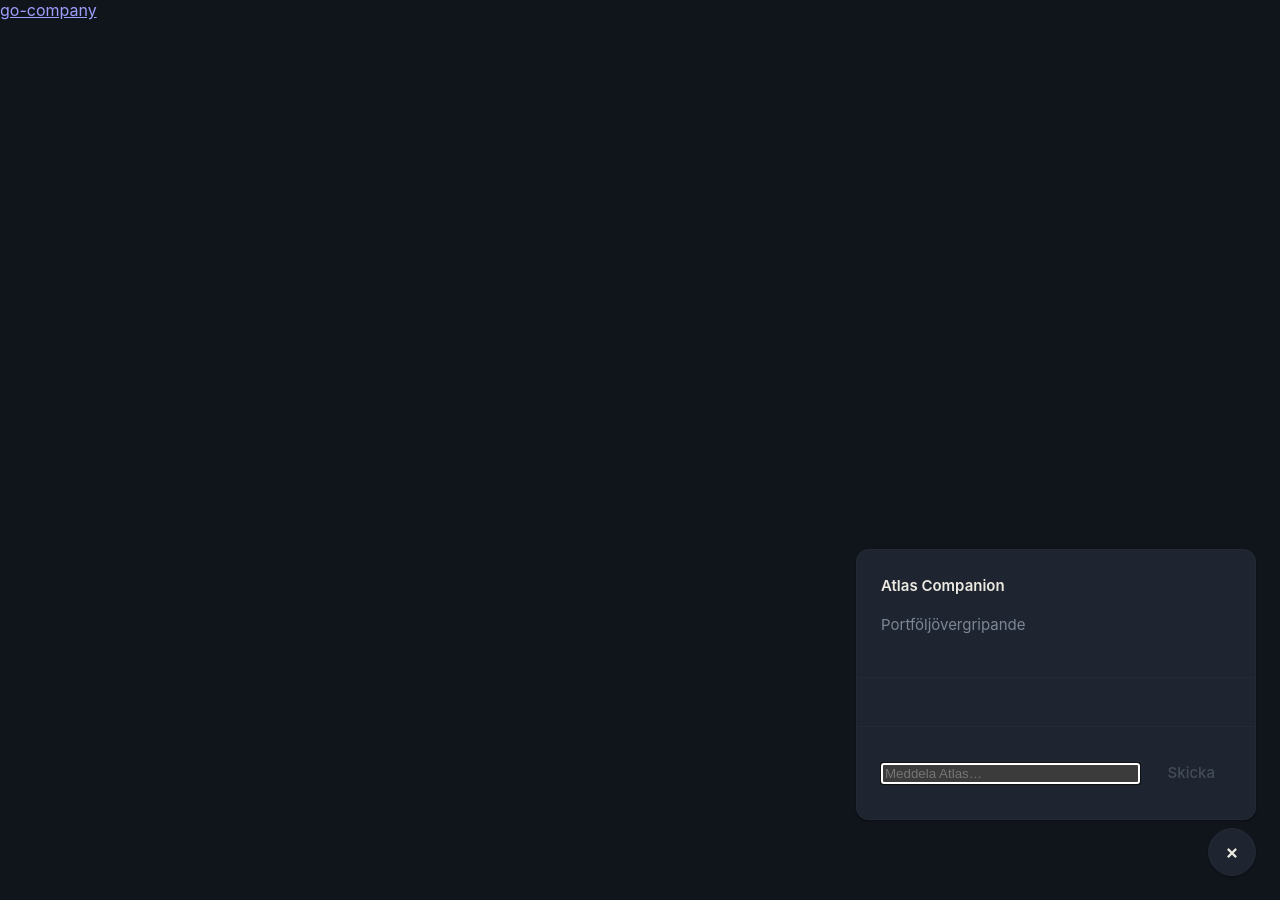
Test: CompanionPanel -- Sprint 3 coverage completion › announces exactly one context change (ticker resolved to its Case) when navigating from a bare workspace into a Company page after a message has been sent
The width and height of the screenshot is (1280, 900).
Check: the text "Portföljövergripande" is shown, box [881,615,1026,634]
Step 1. Type "Hello" into the field with placeholder "Meddela Atlas…" → (1010, 773), box [881,762,1140,784]
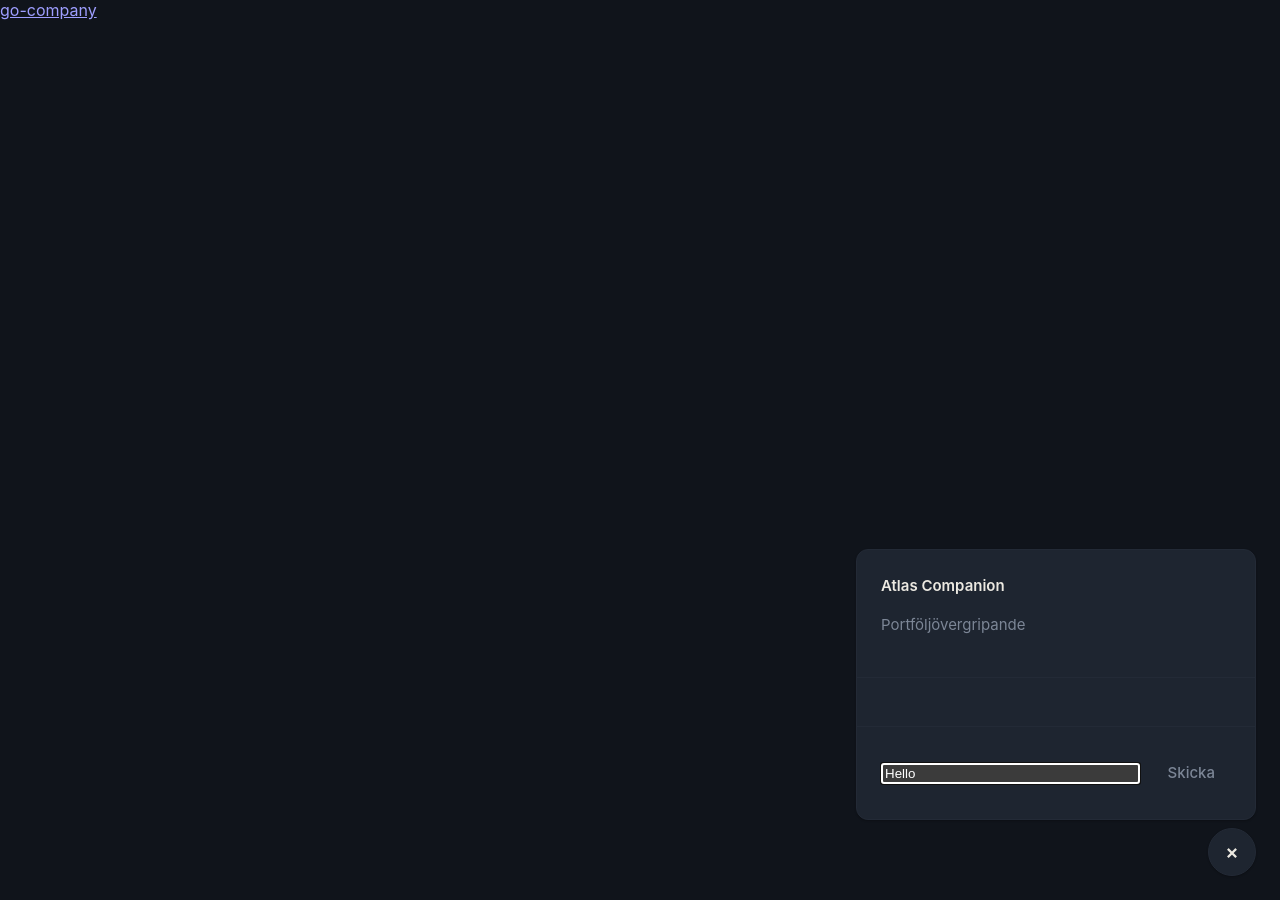
Step 2. Click the button "Skicka" → (1191, 773), box [1152,751,1231,795]
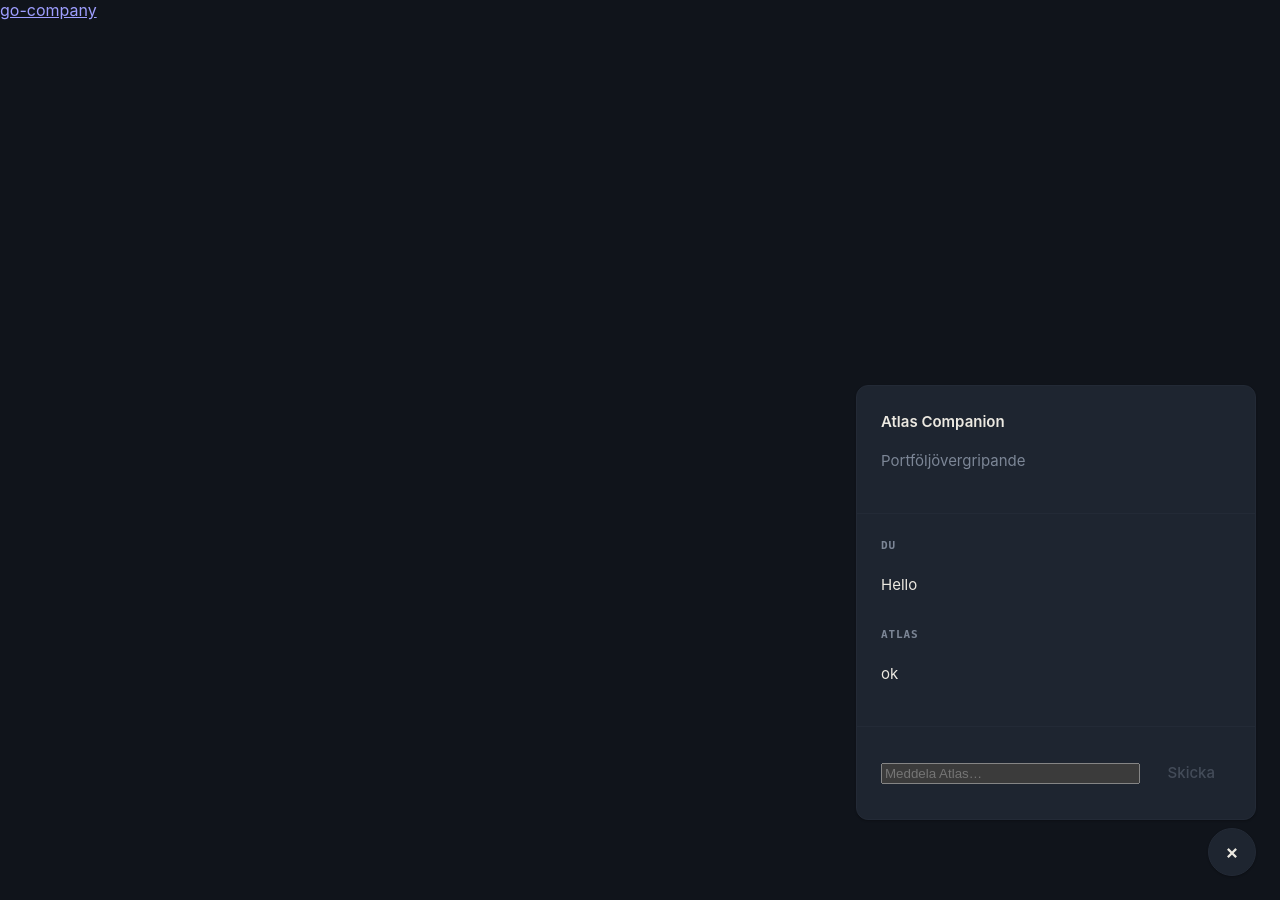
Step 3. Click the link "go-company" → (48, 10), box [0,0,97,20]
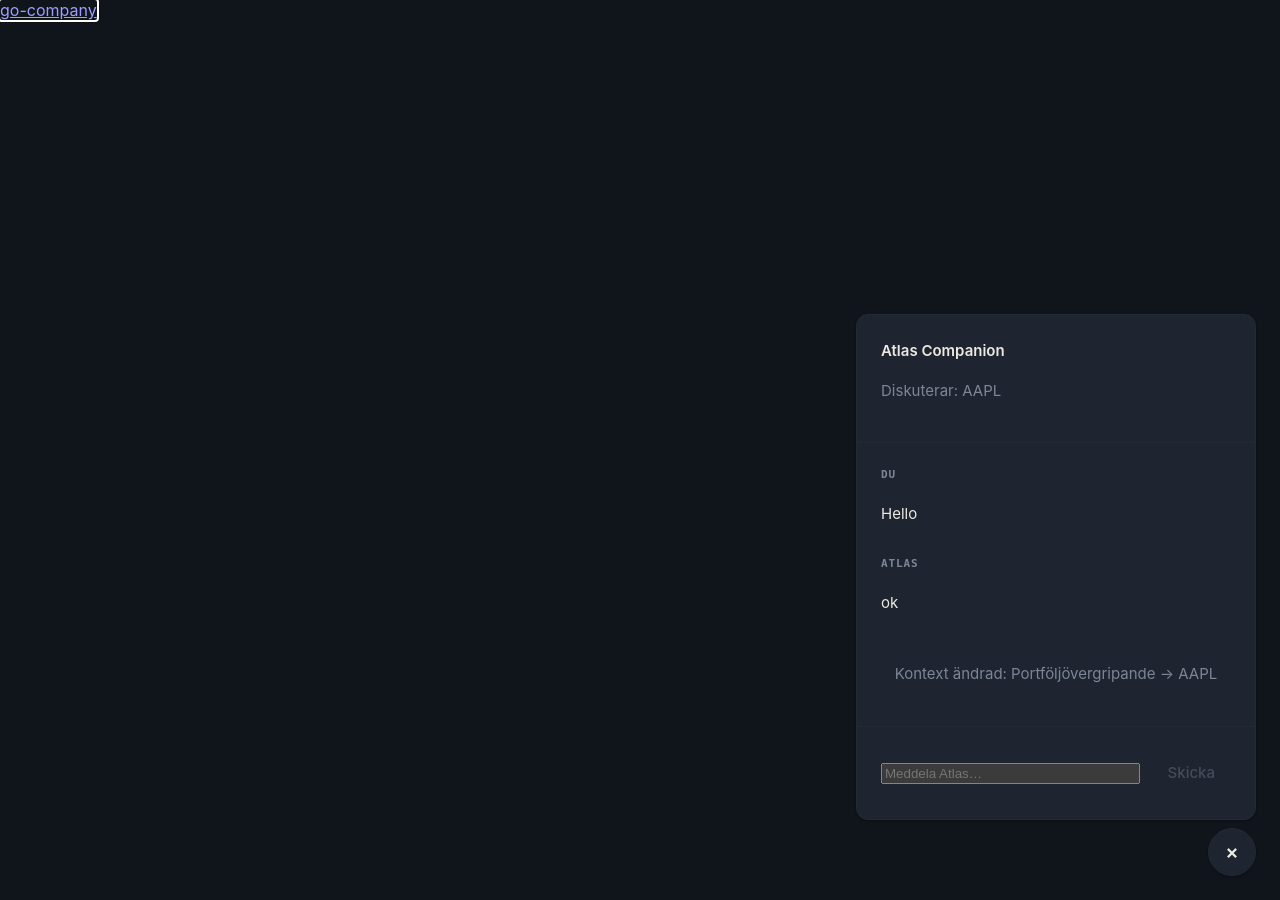
Check: the text "Kontext ändrad: Portföljövergripande → AAPL" is shown once, box [881,662,1231,687]
